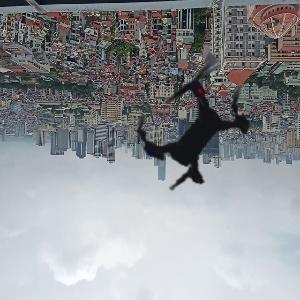drone: (89, 22, 298, 231)
